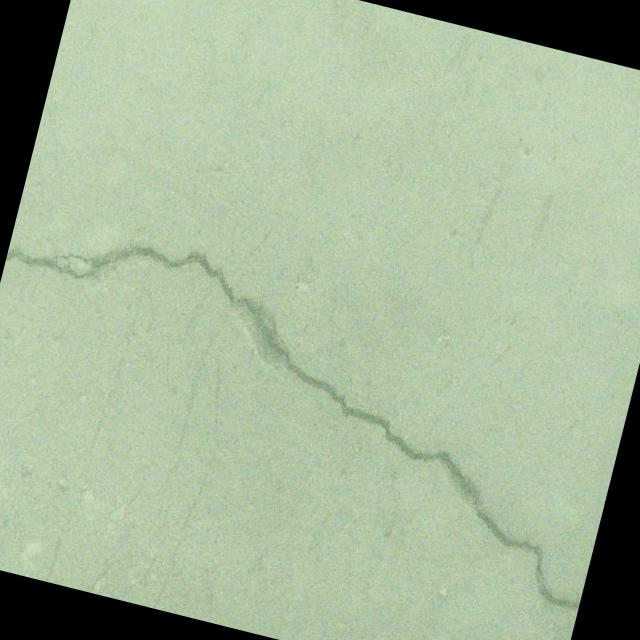crack: (0, 205, 639, 614)
